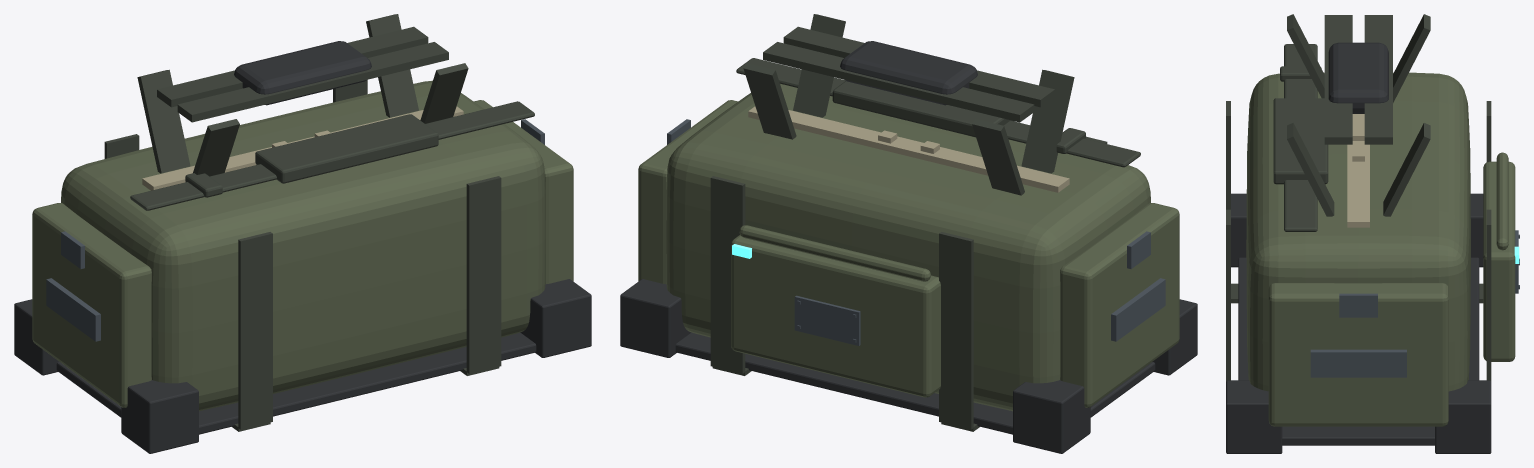
File: cantina_13_pilot_duffel.glb
3 views of the same model, side by side, from view 1: azimuth 30°, elevation 25°; view 2: azimuth 150°, elevation 25°; view 3: azimuth 270°, elevation 25° (orthographic). The views are drawn at different scales.
Visible parts, largest first — view 1: Duffel_MainBody, Duffel_WebbingStraps, Duffel_UtilityPockets, Duffel_BaseReinforcements, Duffel_ShoulderStrap, Duffel_HandleWrap, Duffel_Hardware, Duffel_TopZipper; view 2: Duffel_MainBody, Duffel_UtilityPockets, Duffel_WebbingStraps, Duffel_BaseReinforcements, Duffel_ShoulderStrap, Duffel_Hardware, Duffel_TopZipper, Duffel_HandleWrap; view 3: Duffel_MainBody, Duffel_UtilityPockets, Duffel_BaseReinforcements, Duffel_WebbingStraps, Duffel_ShoulderStrap, Duffel_Hardware, Duffel_HandleWrap, Duffel_TopZipper.
Part boxes in pixels (<box>): Duffel_MainBody: <box>61,80,545,411</box>; Duffel_WebbingStraps: <box>104,14,501,431</box>; Duffel_UtilityPockets: <box>32,100,573,407</box>; Duffel_BaseReinforcements: <box>14,279,591,453</box>; Duffel_ShoulderStrap: <box>130,101,534,210</box>; Duffel_HandleWrap: <box>234,41,371,105</box>; Duffel_Hardware: <box>46,119,544,341</box>; Duffel_TopZipper: <box>142,106,463,190</box>; Duffel_MainBody: <box>666,83,1150,411</box>; Duffel_UtilityPockets: <box>638,100,1179,407</box>; Duffel_WebbingStraps: <box>710,14,1107,431</box>; Duffel_BaseReinforcements: <box>620,279,1197,453</box>; Duffel_ShoulderStrap: <box>736,58,1140,167</box>; Duffel_Hardware: <box>667,119,1165,345</box>; Duffel_TopZipper: <box>748,106,1069,192</box>; Duffel_HandleWrap: <box>840,41,977,105</box>; Duffel_MainBody: <box>1246,72,1470,391</box>; Duffel_UtilityPockets: <box>1268,152,1515,426</box>; Duffel_BaseReinforcements: <box>1226,193,1491,453</box>; Duffel_WebbingStraps: <box>1226,14,1491,381</box>; Duffel_ShoulderStrap: <box>1273,44,1328,231</box>; Duffel_Hardware: <box>1310,230,1519,377</box>; Duffel_HandleWrap: <box>1328,42,1388,113</box>; Duffel_TopZipper: <box>1347,114,1369,227</box>.
Size of the model in its own units: 0.65 by 0.398 by 0.3655.
